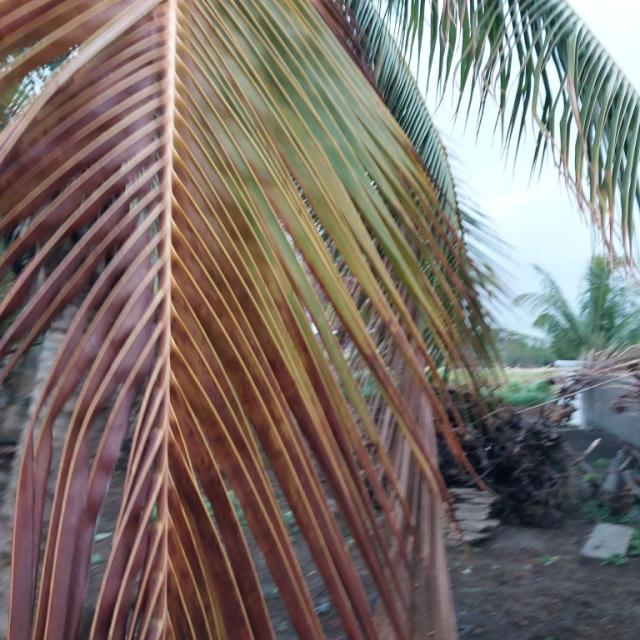gray leaf spot: (375, 311, 453, 636)
